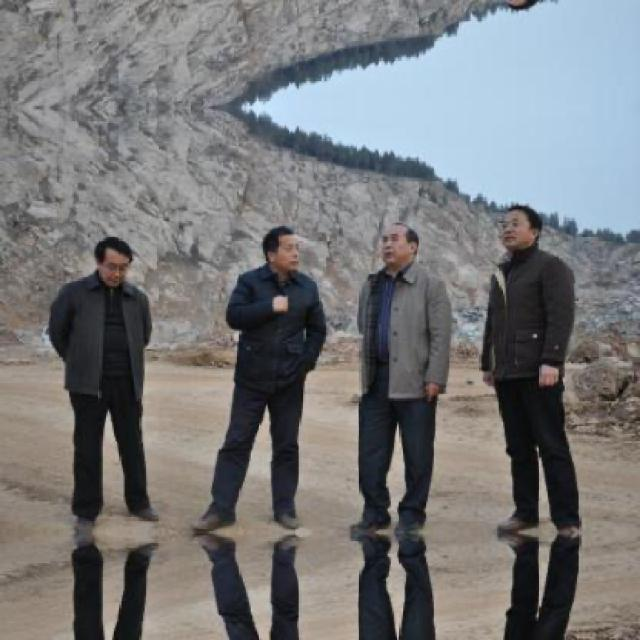con casco: (259, 225, 303, 314)
sin casco: (250, 197, 345, 323), (67, 218, 189, 314), (502, 162, 572, 269), (374, 228, 424, 315)
